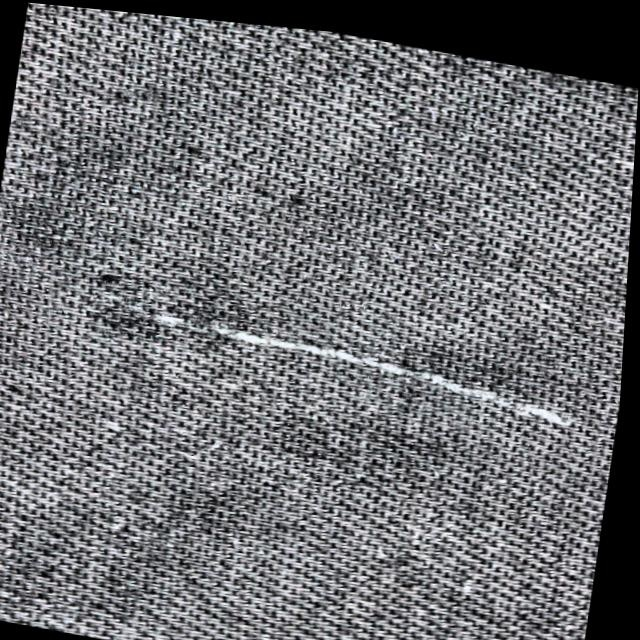Hole: (134, 276, 594, 445)
